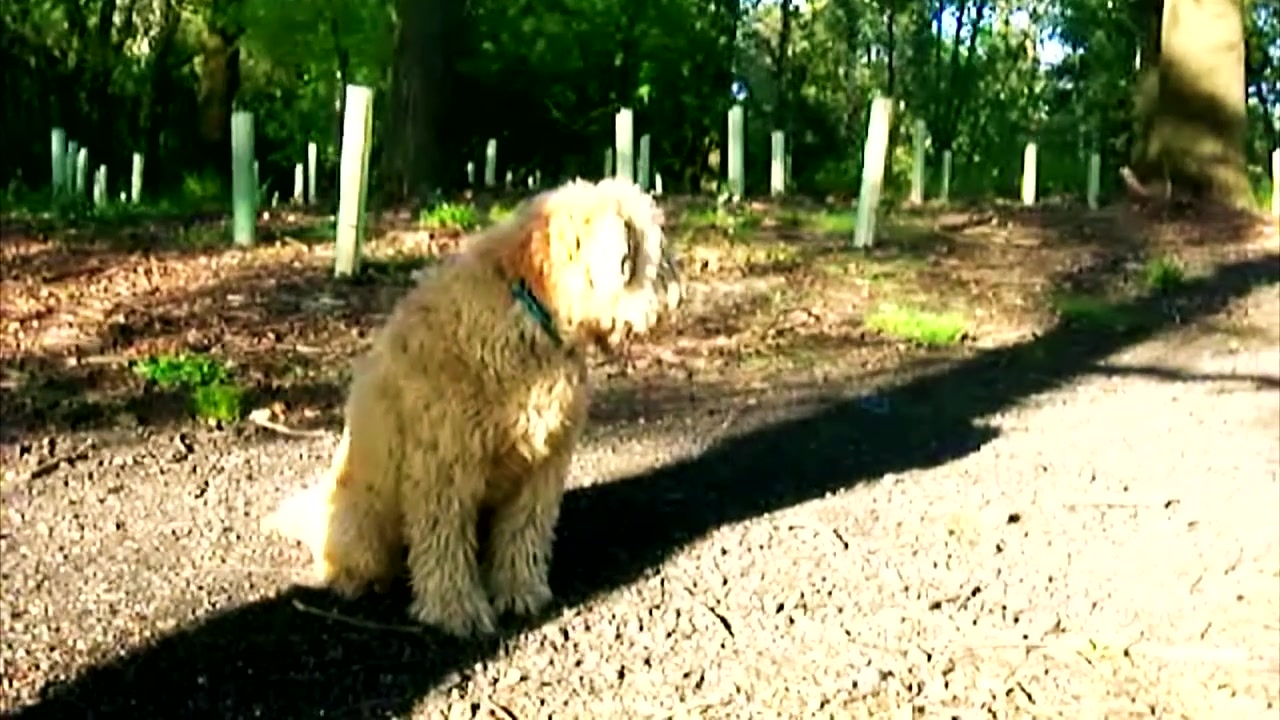dog: (258, 173, 684, 638)
